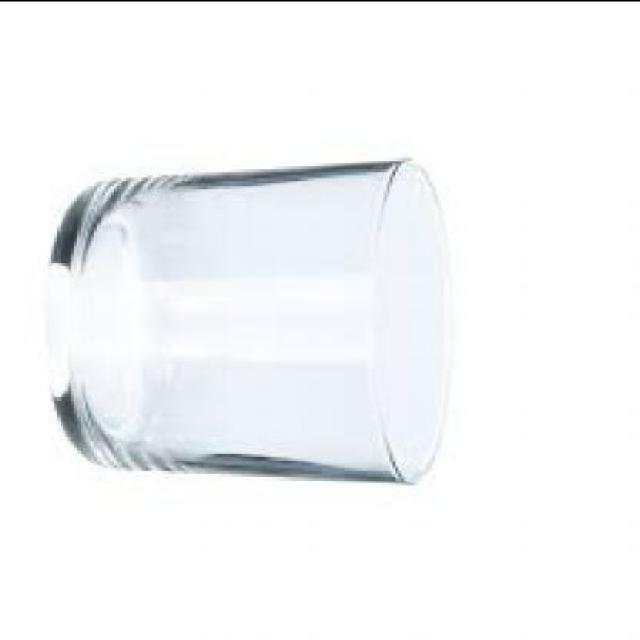glass: (54, 163, 452, 488)
